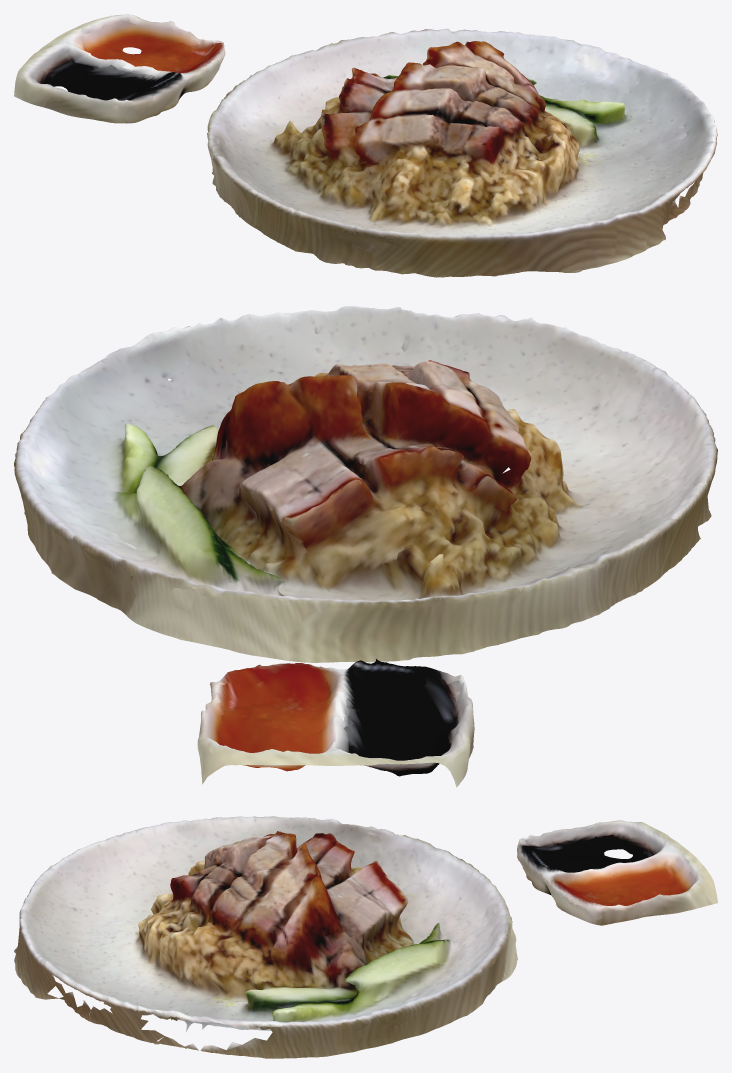
The picture shows the model from 3 angles, top to bottom: view 1: azimuth 30°, elevation 25°; view 2: azimuth 150°, elevation 25°; view 3: azimuth 270°, elevation 25°; orthographic projection. The views are drawn at different scales.
Parts seen in each view (by area): view 1: mesh_main_0 (×2); view 2: mesh_main_0 (×2); view 3: mesh_main_0 (×2).
Part boxes in pixels (x1,y1,x2,y2): mesh_main_0 (×2): [14, 14, 717, 277]; mesh_main_0 (×2): [14, 306, 717, 787]; mesh_main_0 (×2): [14, 816, 717, 1058].
Bounding box in the file's own units: 0.265 × 0.0604 × 0.3515.
1 material, 1 textured.
